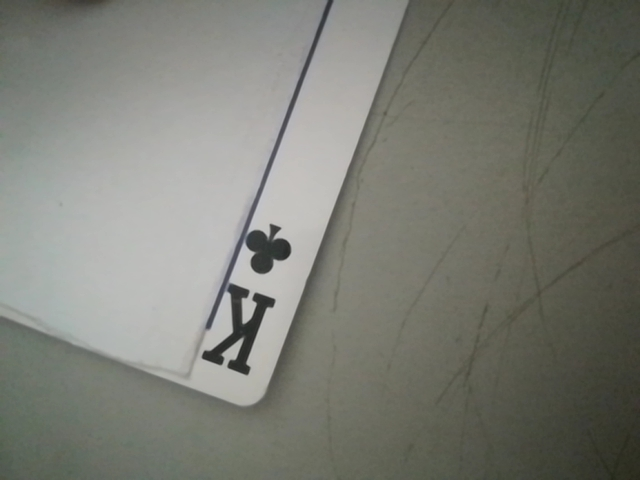mh k: (189, 215, 306, 392)
